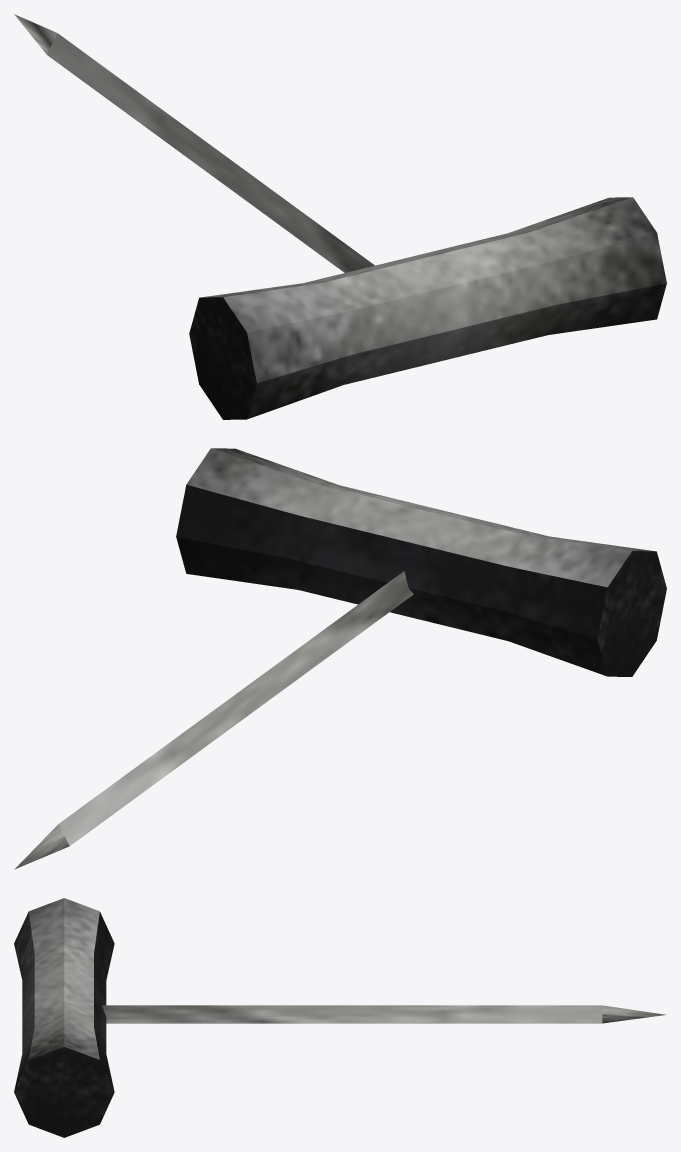
Rendered from poincon.fbx.
The picture shows the model from 3 angles, top to bottom: view 1: azimuth 30°, elevation 25°; view 2: azimuth 150°, elevation 25°; view 3: azimuth 270°, elevation 25°; orthographic projection. The views are drawn at different scales.
Parts seen in each view (by area): view 1: polySurface1852; view 2: polySurface1852; view 3: polySurface1852.
Part boxes in pixels (x1,y1,x2,y2): polySurface1852: [14, 14, 666, 419]; polySurface1852: [14, 448, 666, 869]; polySurface1852: [14, 898, 666, 1137].
Size of the model in its own units: 5.54 by 1.58 by 10.27.
